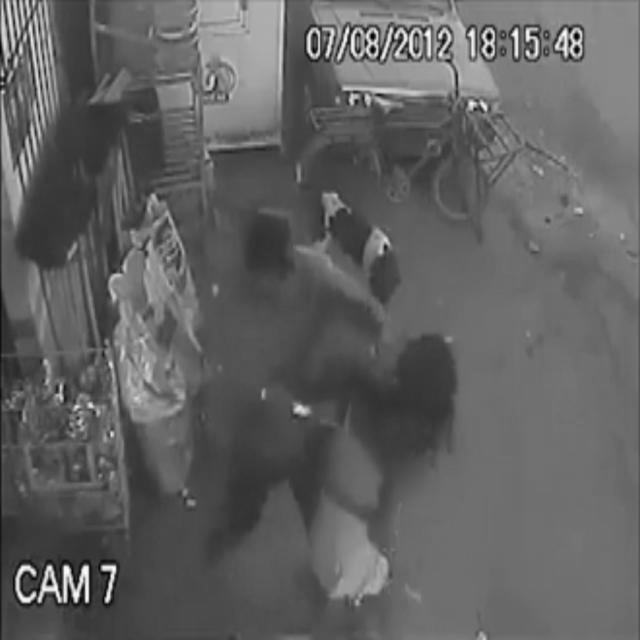weapon: (292, 401, 312, 417)
